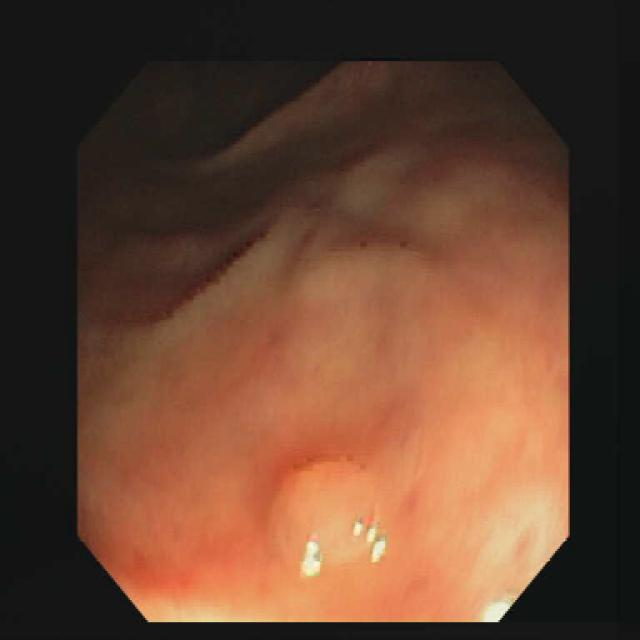tumor: (270, 458, 387, 576)
